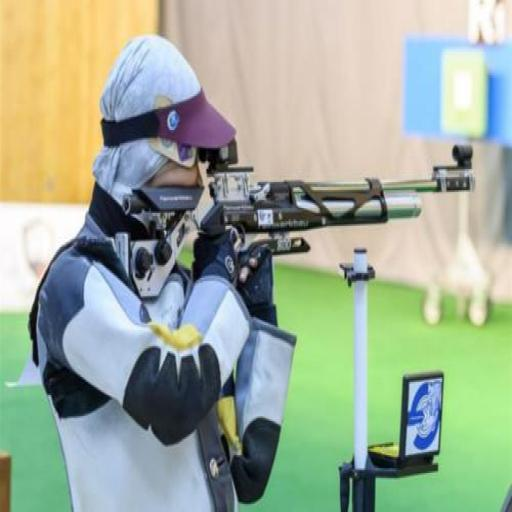shooting: (27, 31, 298, 510)
